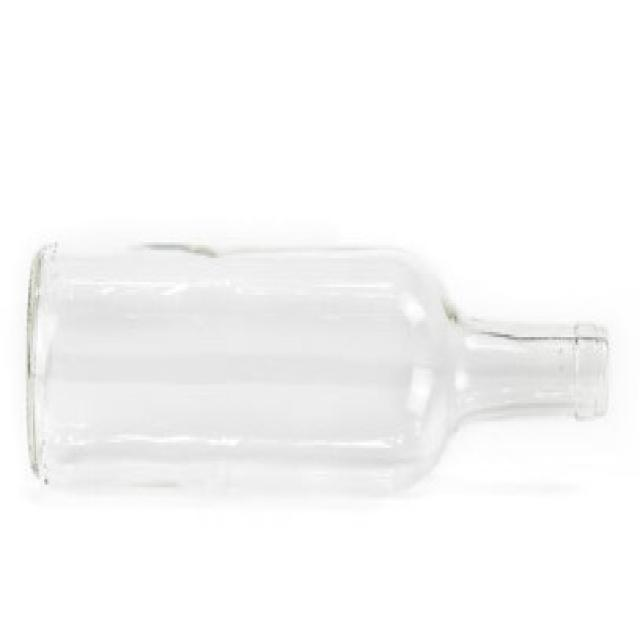electronic: (26, 233, 615, 489)
